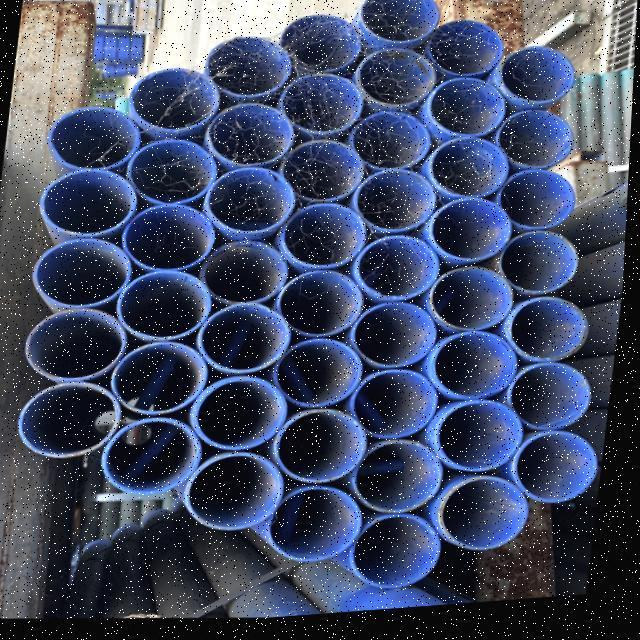pipe: (18, 373, 134, 468), (187, 448, 296, 542), (104, 412, 215, 503), (193, 369, 302, 460), (25, 301, 138, 388), (32, 230, 141, 316), (274, 406, 376, 495), (112, 336, 216, 423), (39, 164, 149, 246), (117, 264, 221, 350), (268, 483, 369, 571), (351, 438, 451, 526), (436, 478, 538, 564), (350, 513, 450, 598), (430, 400, 530, 484), (272, 335, 374, 417), (199, 300, 302, 381), (121, 201, 226, 280), (350, 367, 448, 451), (124, 134, 225, 215), (40, 102, 145, 179), (125, 62, 226, 142), (511, 431, 606, 516), (201, 164, 300, 245), (500, 364, 600, 444), (348, 300, 446, 380), (432, 329, 524, 414), (352, 234, 449, 314), (425, 264, 521, 344), (280, 200, 376, 279), (205, 102, 304, 178), (278, 134, 374, 212), (200, 239, 298, 315), (276, 266, 369, 346), (200, 34, 296, 111), (348, 168, 442, 245), (424, 196, 515, 274), (502, 298, 594, 374), (276, 74, 368, 148), (498, 232, 587, 308), (420, 78, 511, 152), (427, 138, 518, 211), (277, 15, 369, 86), (351, 45, 437, 120), (416, 22, 506, 93), (348, 108, 436, 180), (492, 51, 580, 122), (488, 112, 576, 183), (492, 170, 578, 242), (349, 0, 444, 59)
